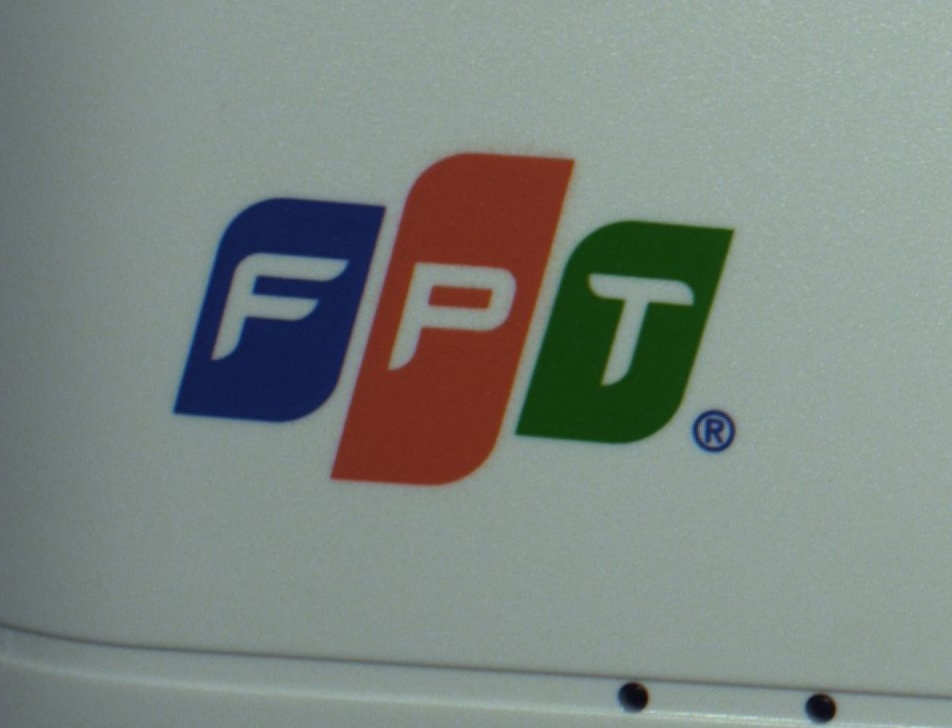BR_FPT: (158, 142, 805, 497)
